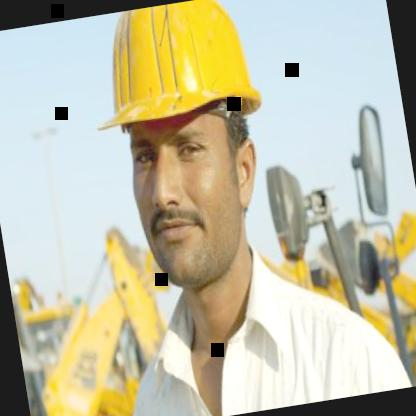helmet: (62, 0, 312, 338)
